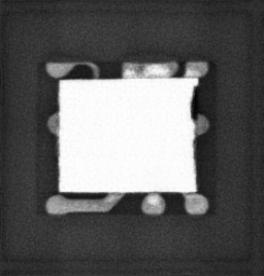DIE_BROKEN: (188, 84, 199, 124)
